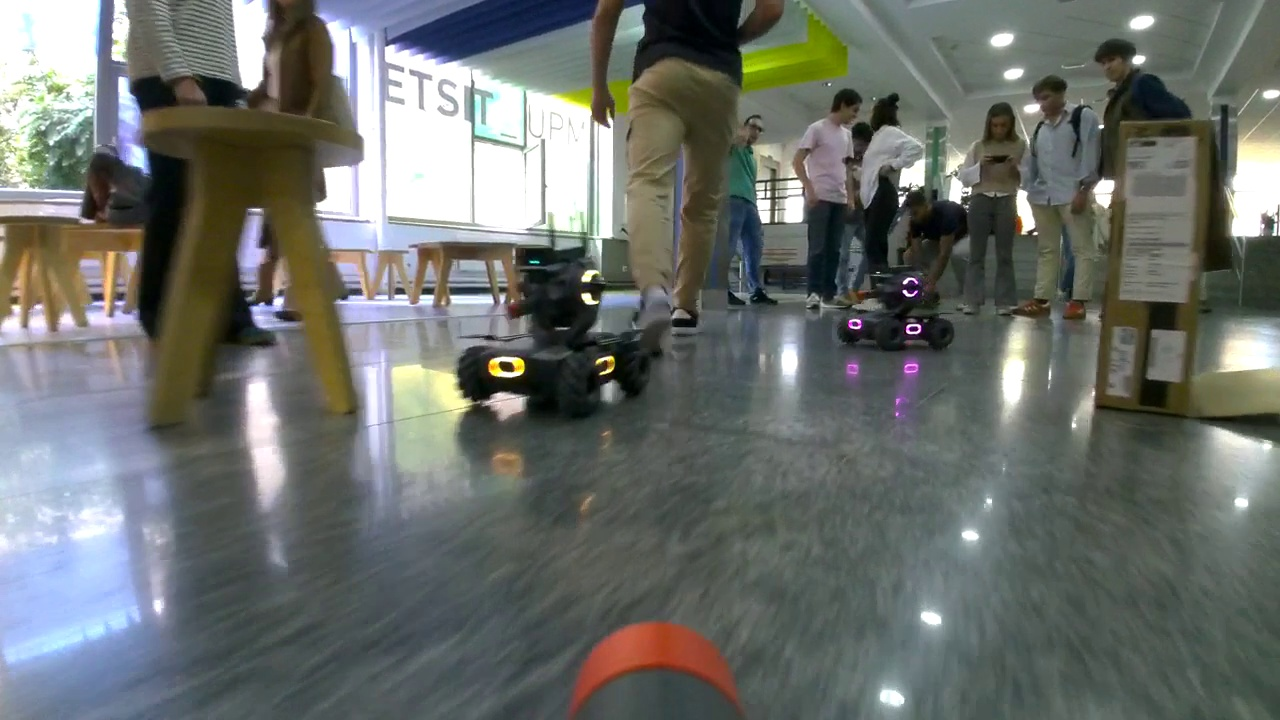robot: (456, 244, 649, 420), (836, 265, 954, 351)
